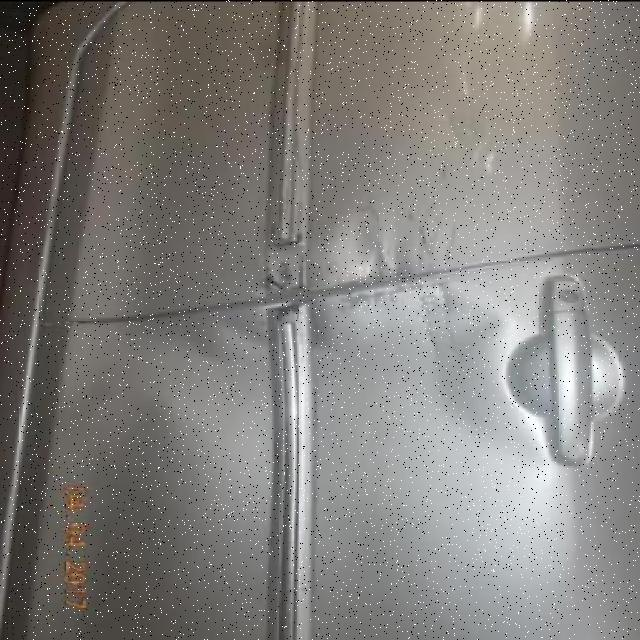damage: (324, 154, 468, 361), (193, 299, 339, 367), (74, 387, 186, 475), (405, 279, 509, 371), (258, 244, 314, 321), (433, 104, 496, 146)
